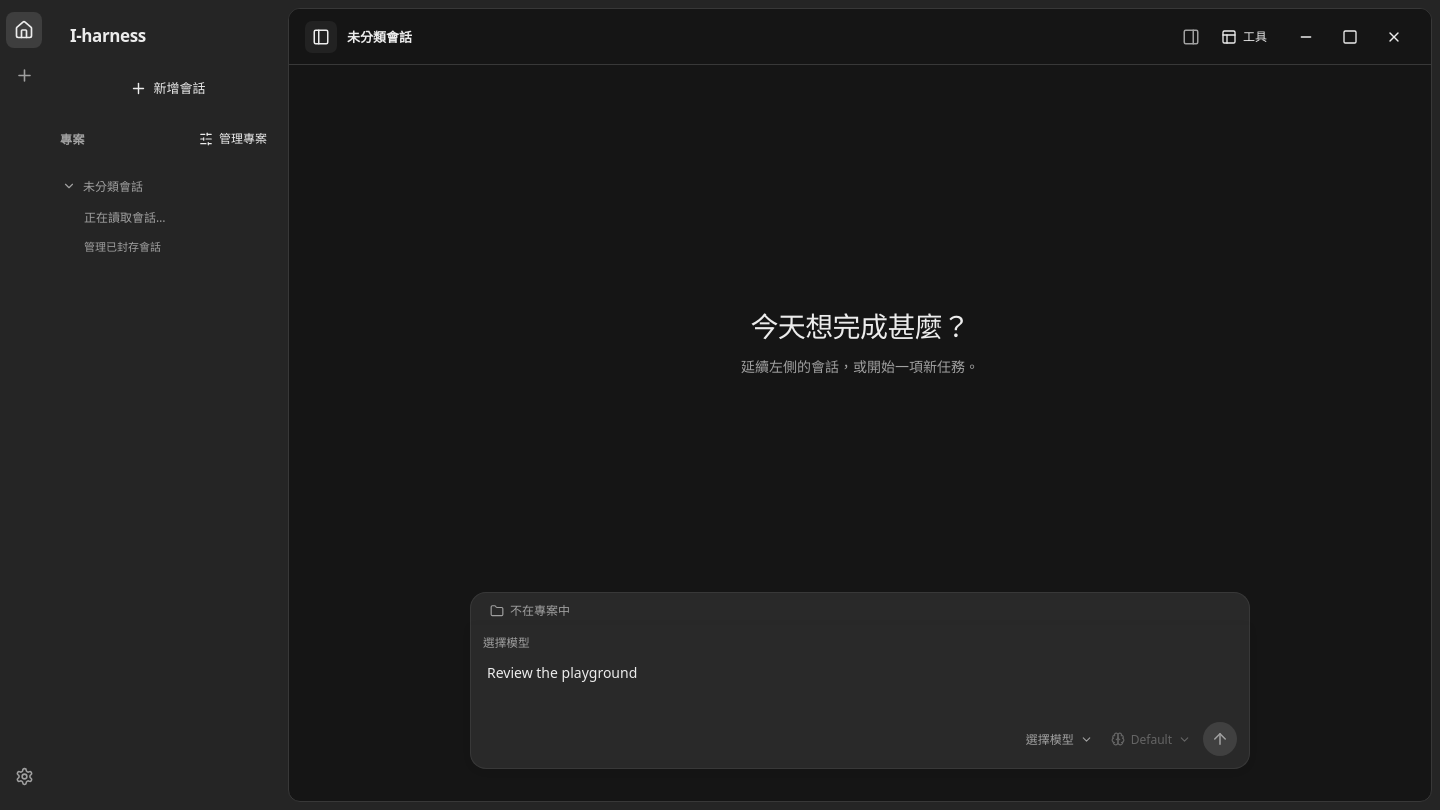
Desktop workbench shell › can hide and restore navigation without losing the header toggle
The width and height of the screenshot is (1440, 810).
What coordinates should you click on to do the following:
click the button named "顯示側欄"
I would click on:
 (321, 36)
Its box is x1=305 y1=20 x2=337 y2=52.
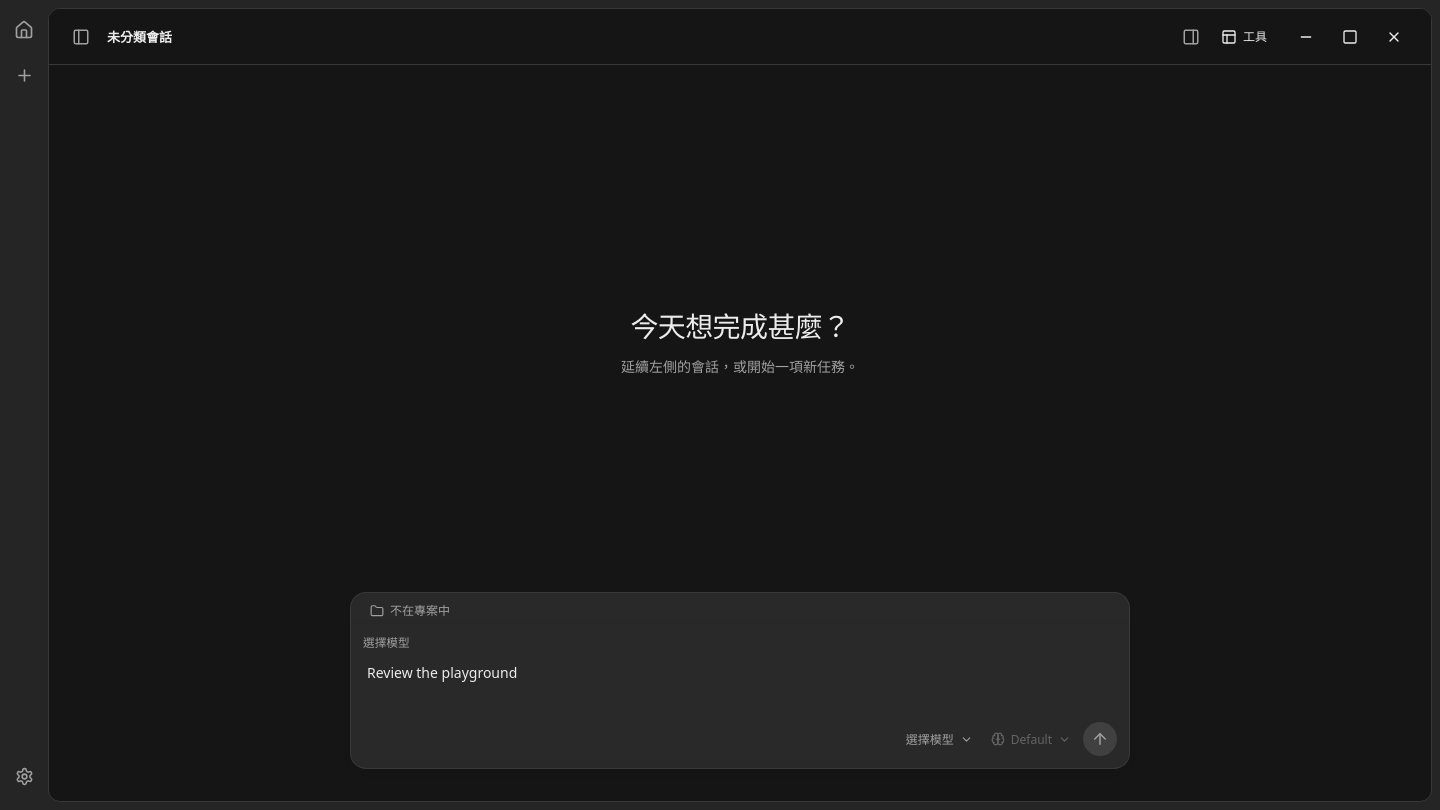
What coordinates should you click on to do the following:
click the button named "顯示側欄"
I would click on:
 (81, 36)
Its box is x1=65 y1=20 x2=97 y2=52.
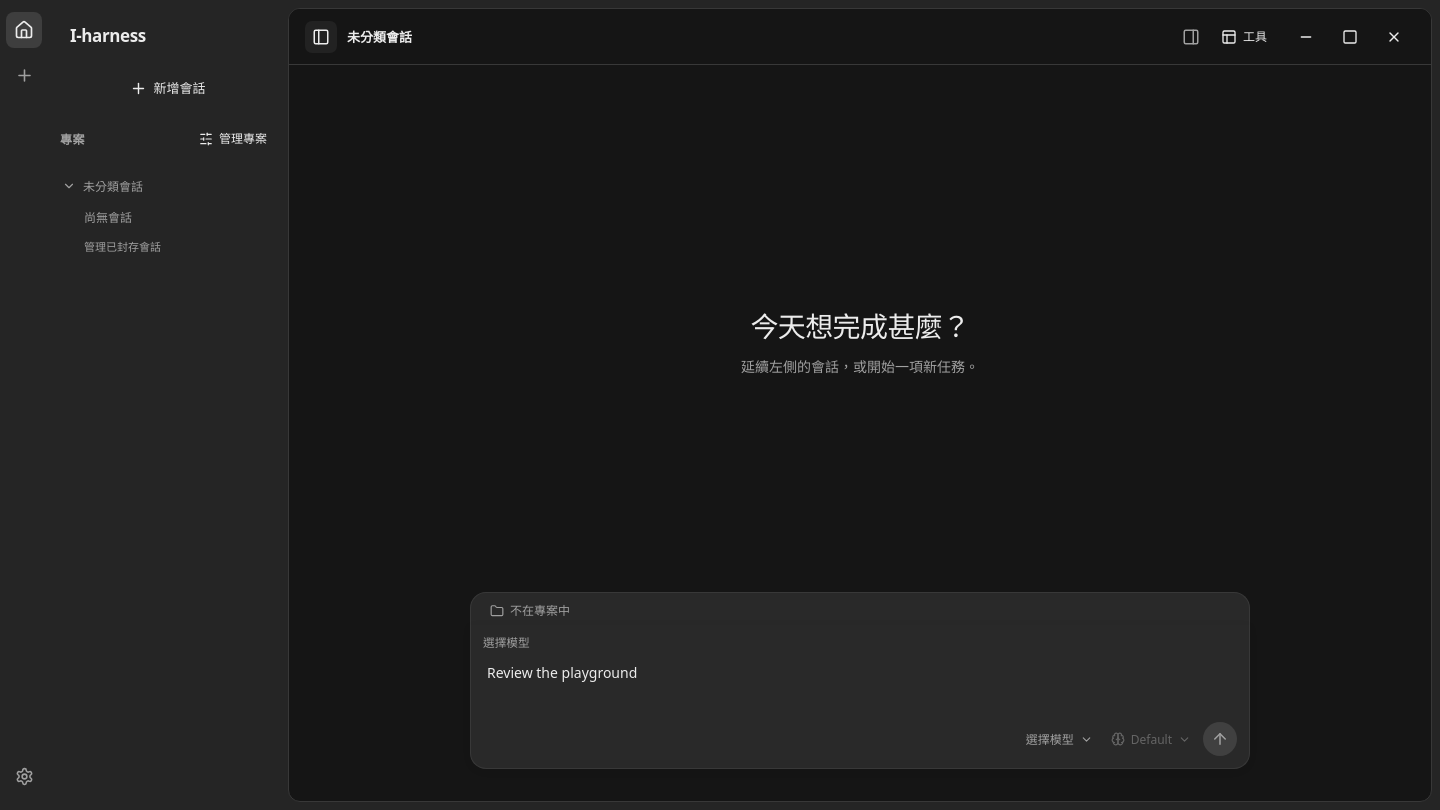
Now the navigation bar "專案" is shown, box x1=48 y1=8 x2=288 y2=802
